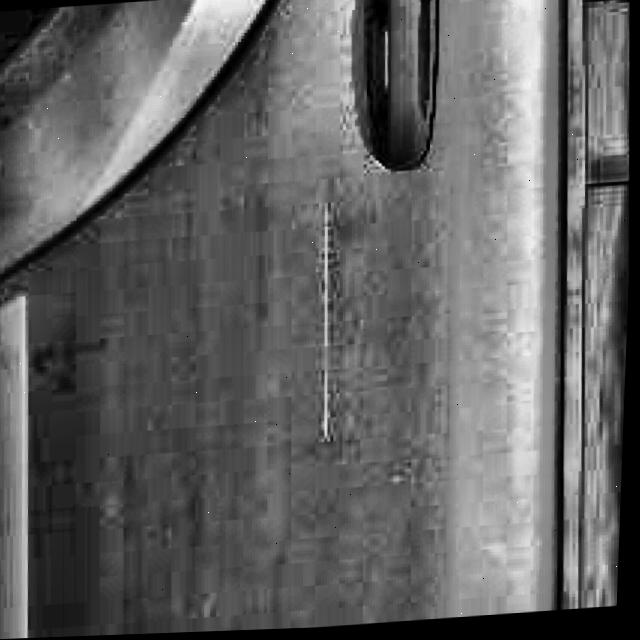door_scratch: (304, 200, 345, 446)
